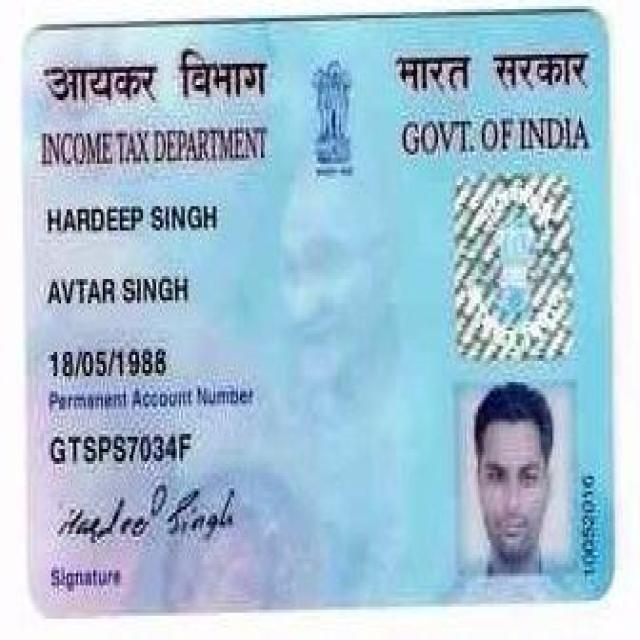pan_card: (22, 14, 613, 615)
